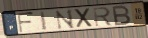B: (112, 4, 132, 26)
F: (16, 11, 36, 34)
I: (39, 10, 48, 31)
N: (55, 8, 76, 30)
R: (92, 6, 114, 28)
X: (73, 7, 94, 29)
